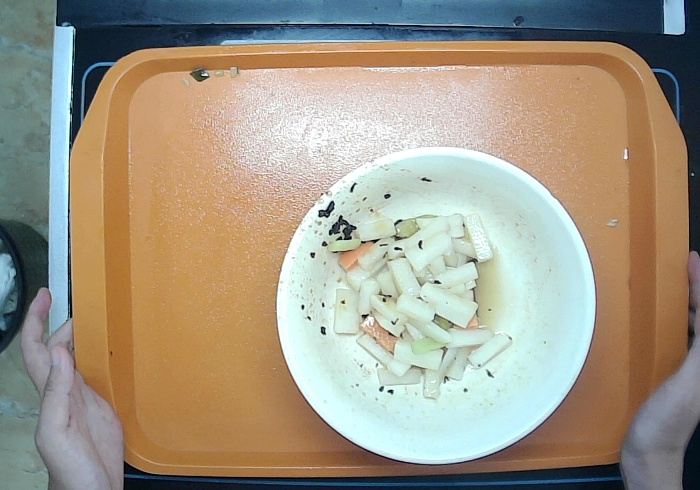ZNLD-Da_Tang_Wan: (272, 142, 598, 470)
